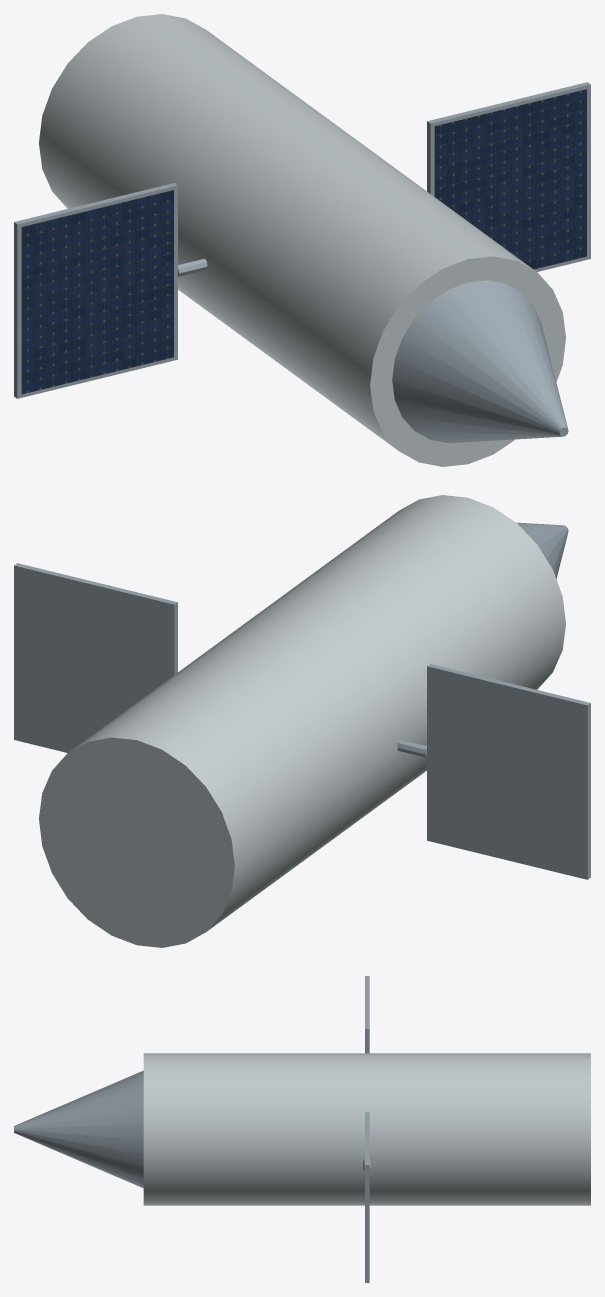
Rendered from ref-7k-tgm-20191.glb.
3 views of the same model, one above another, from view 1: azimuth 30°, elevation 25°; view 2: azimuth 150°, elevation 25°; view 3: azimuth 270°, elevation 25° (orthographic). The views are drawn at different scales.
Parts seen in each view (by area): view 1: Spacecraft body, Photovoltaic laminates (×2), Conical section, Array frame (×2); view 2: Spacecraft body, Array frame (×2), Conical section; view 3: Spacecraft body, Conical section, Array frame.
Part boxes in pixels (box(x1,y1,x2,y2)): Spacecraft body: box(39, 14, 565, 466); Photovoltaic laminates (×2): box(21, 89, 586, 394); Conical section: box(392, 280, 568, 443); Array frame (×2): box(14, 82, 590, 398); Spacecraft body: box(39, 495, 565, 947); Array frame (×2): box(14, 563, 590, 879); Conical section: box(516, 522, 568, 578); Spacecraft body: box(143, 1053, 590, 1205); Conical section: box(14, 1070, 143, 1188); Array frame: box(365, 1112, 369, 1282).
Bounding box in the file's own units: 7.9 × 2.7 × 10.19.
3 materials, 1 textured.
